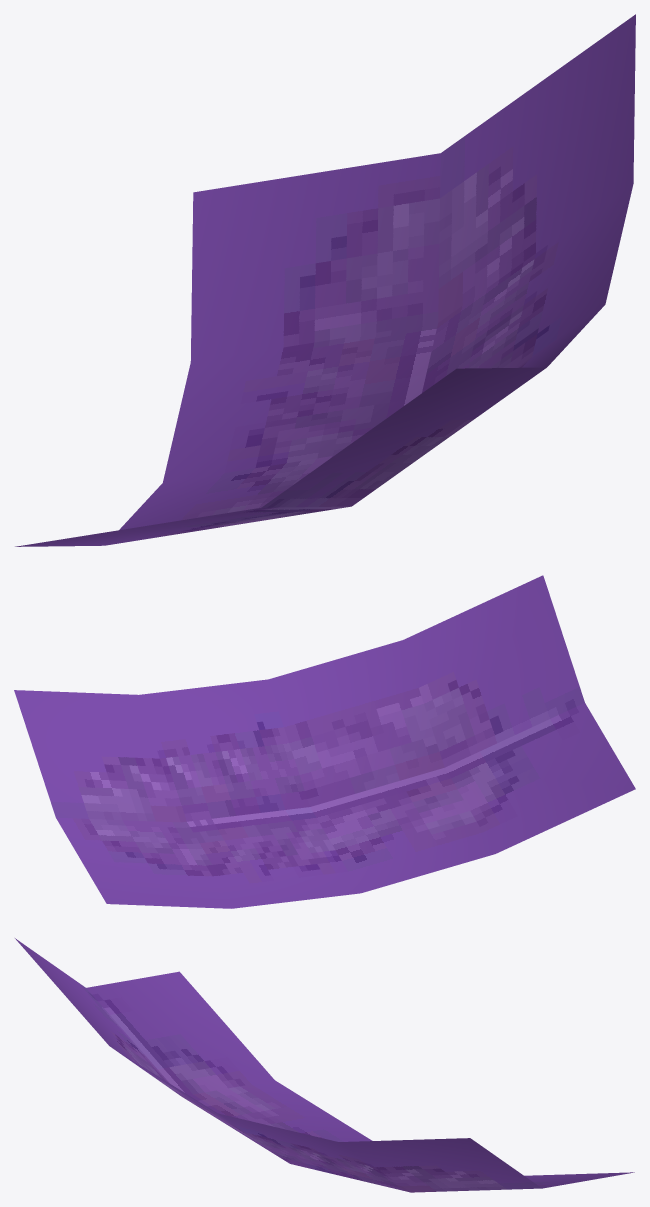
Rendered from cap_feather_ppl.dae.
3 views of the same model, one above another, from view 1: azimuth 30°, elevation 25°; view 2: azimuth 150°, elevation 25°; view 3: azimuth 270°, elevation 25° (orthographic). The views are drawn at different scales.
Parts seen in each view (by area): view 1: cap_feather_ppl; view 2: cap_feather_ppl; view 3: cap_feather_ppl.
Part boxes in pixels (box(x1,y1,x2,y2)): cap_feather_ppl: box(15, 14, 635, 546); cap_feather_ppl: box(14, 575, 635, 908); cap_feather_ppl: box(15, 938, 634, 1192).
Size of the model in its own units: 12.55 by 4.77 by 13.08.
Materials: 1 (1 with a texture image).
